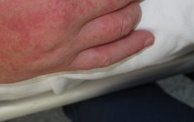SJS-TEN: (0, 0, 160, 84)
